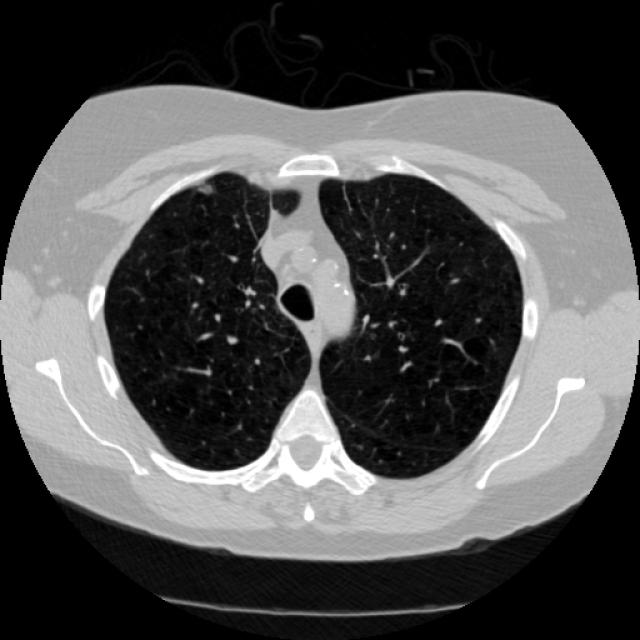nodule: (190, 174, 220, 204)
